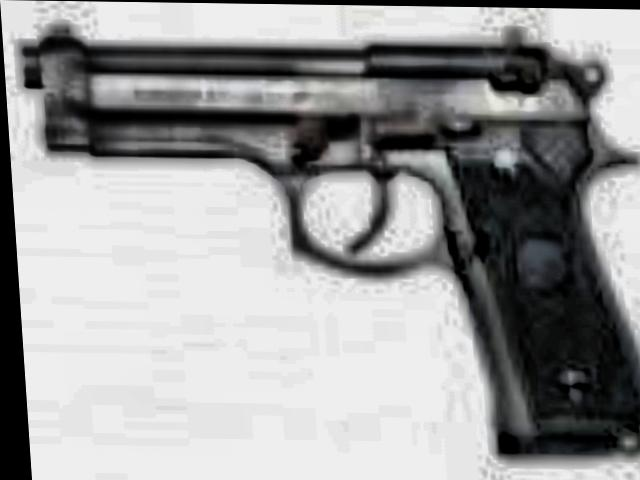pistol: (5, 16, 640, 455)
